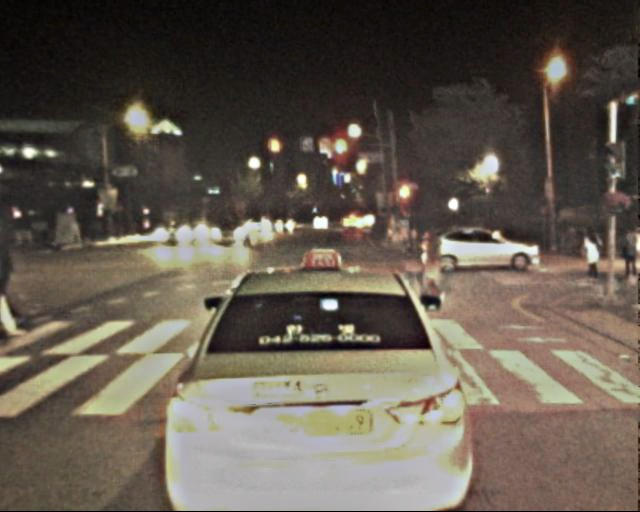person: (403, 232, 452, 314), (1, 216, 26, 338), (579, 229, 604, 290), (618, 228, 640, 289)
